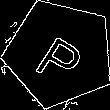P_NE: (29, 23, 90, 85)
